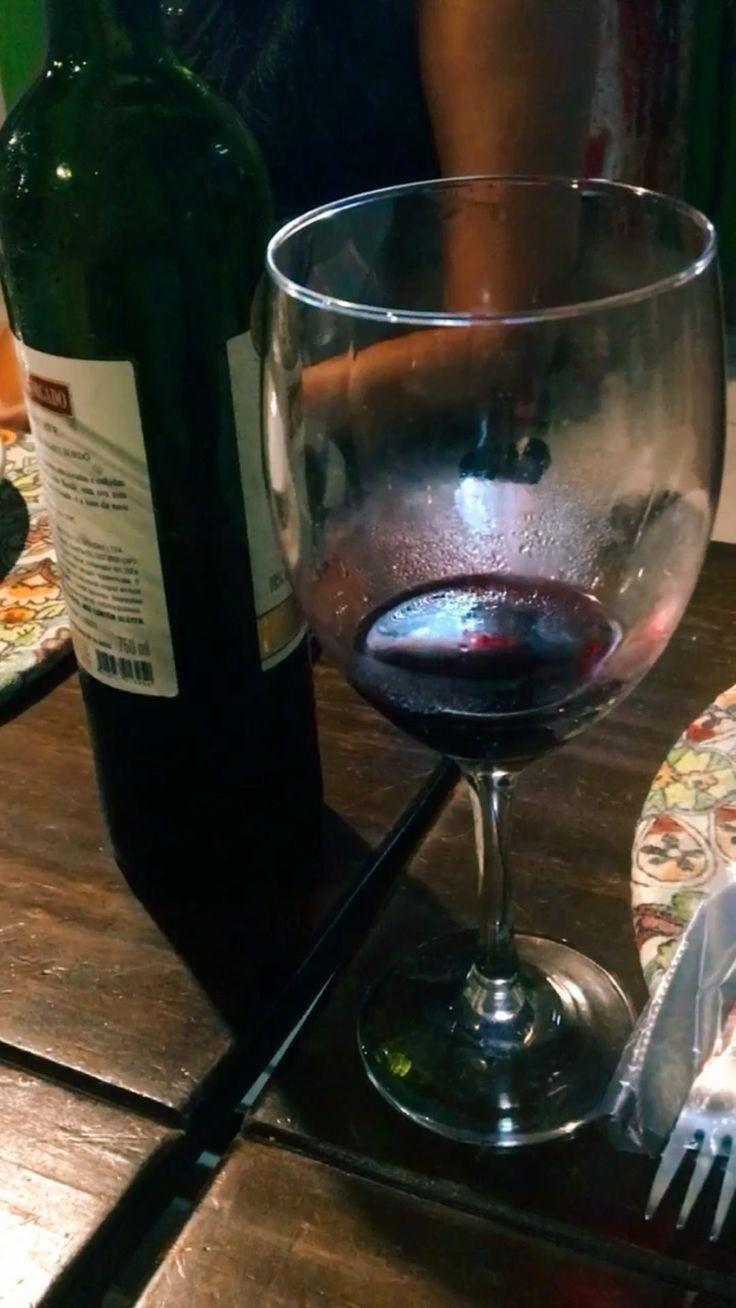bottle-glass: (0, 0, 364, 1141)
glass-wine: (244, 170, 719, 1152)
